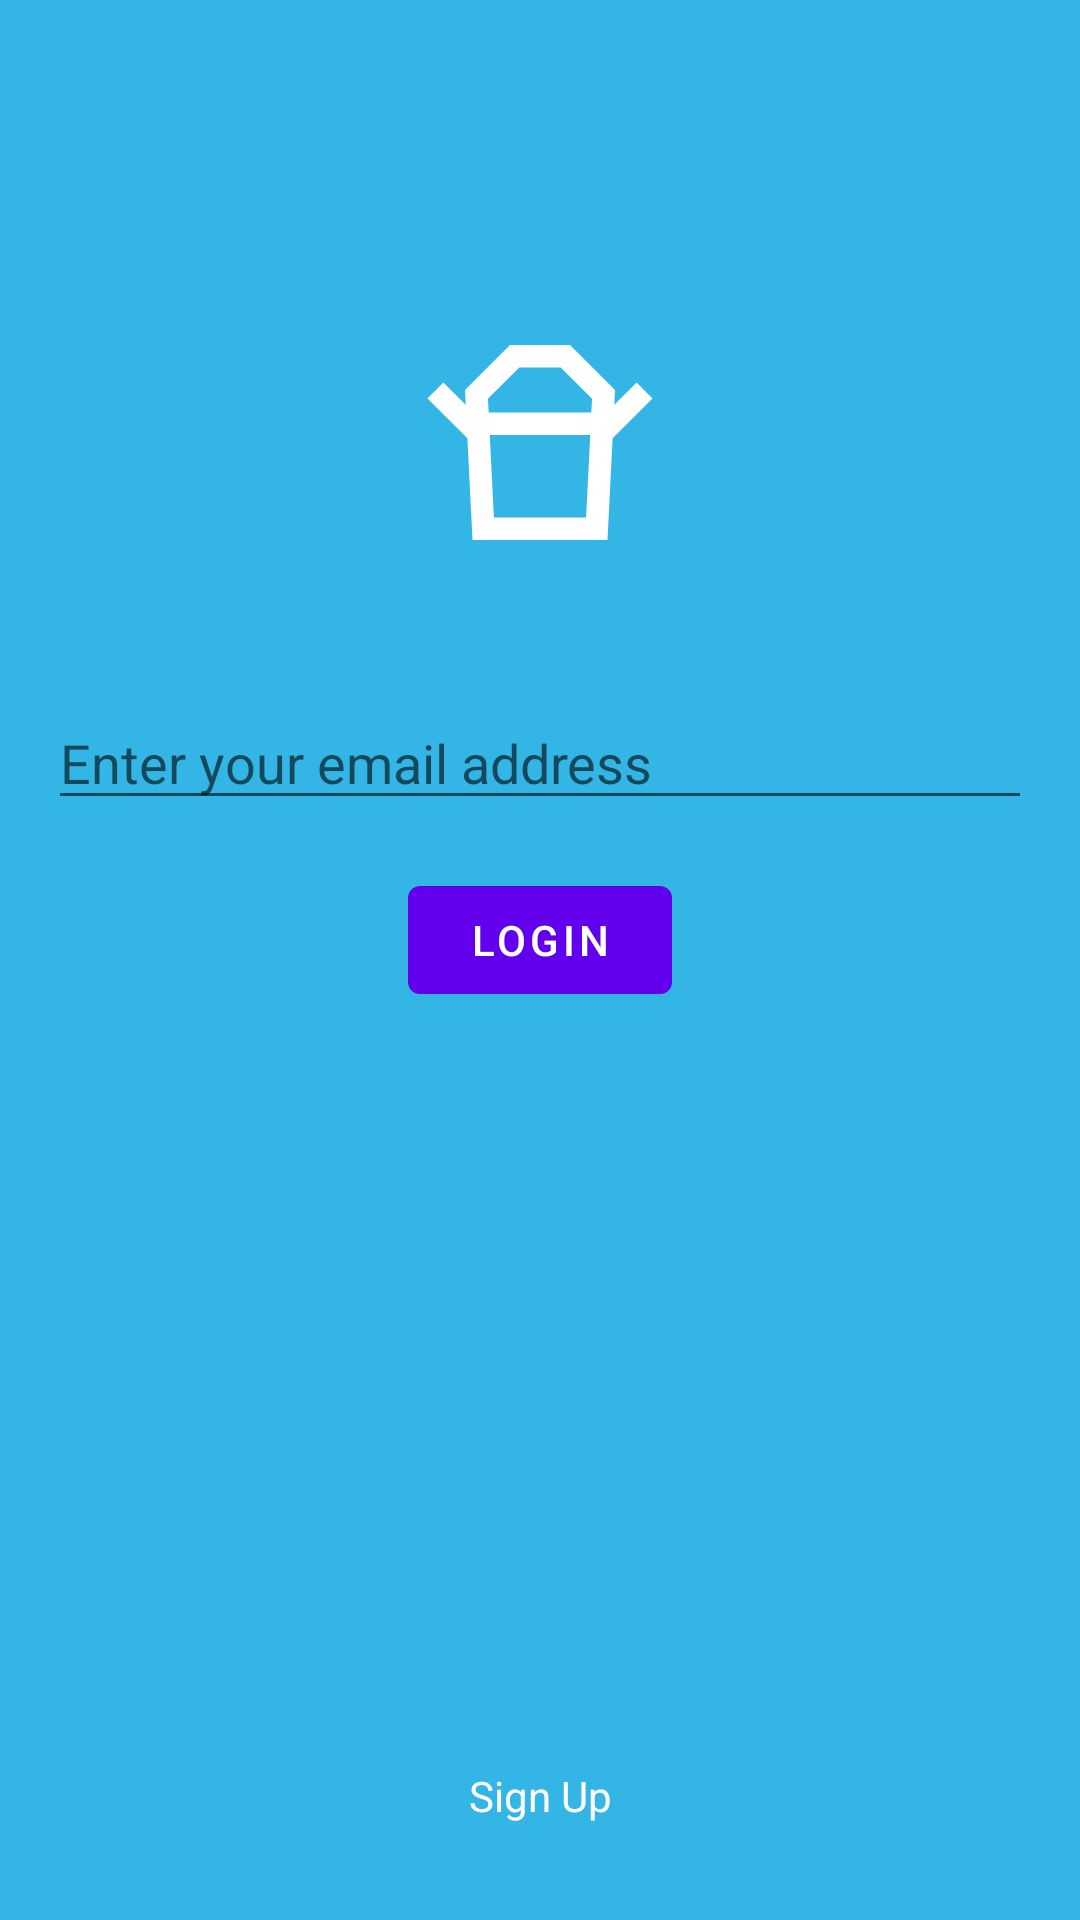

Icons on this 1080 x 1920 Android screen, each with the point to tap as (x=x, y=y):
takeout dining: (x=540, y=442)
